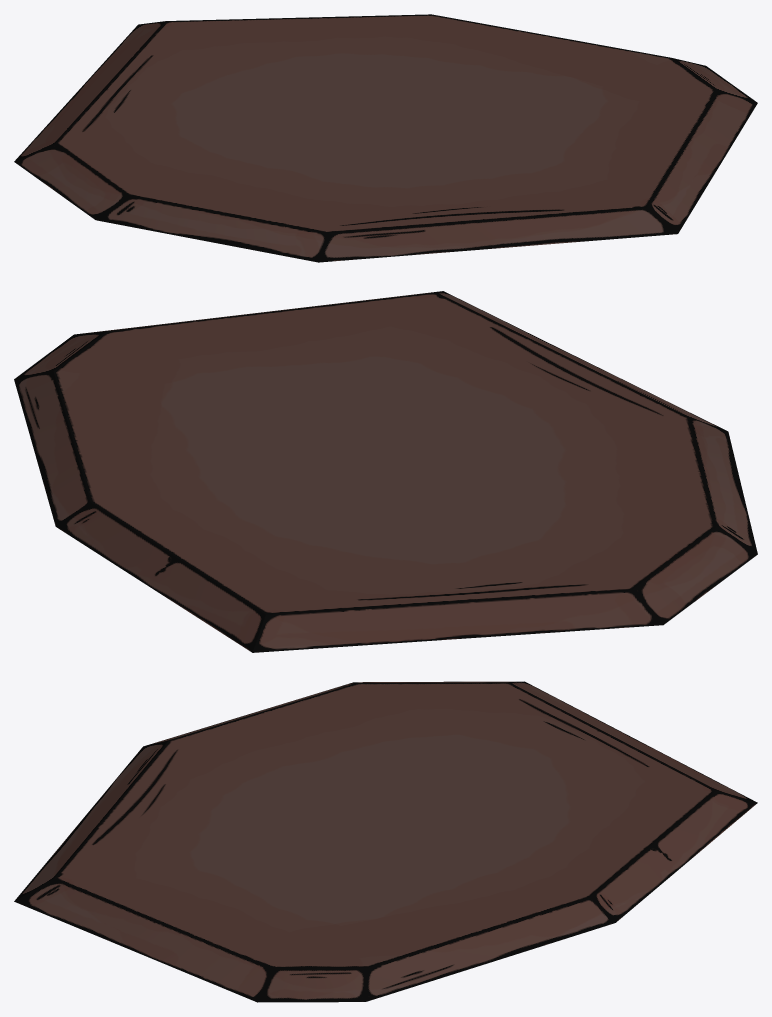
Rendered from StepSteen 1.fbx.
3 renders of one model, top to bottom at view 1: azimuth 30°, elevation 25°; view 2: azimuth 150°, elevation 25°; view 3: azimuth 270°, elevation 25°, orthographic. The views are drawn at different scales.
Parts seen in each view (by area): view 1: Cube.012; view 2: Cube.012; view 3: Cube.012.
Boxes of the visible parts, box(x1,y1,x2,y2) form: Cube.012: box(14, 14, 757, 262); Cube.012: box(14, 291, 757, 652); Cube.012: box(14, 681, 757, 1002).
Size of the model in its own units: 106 by 2.58 by 104.
